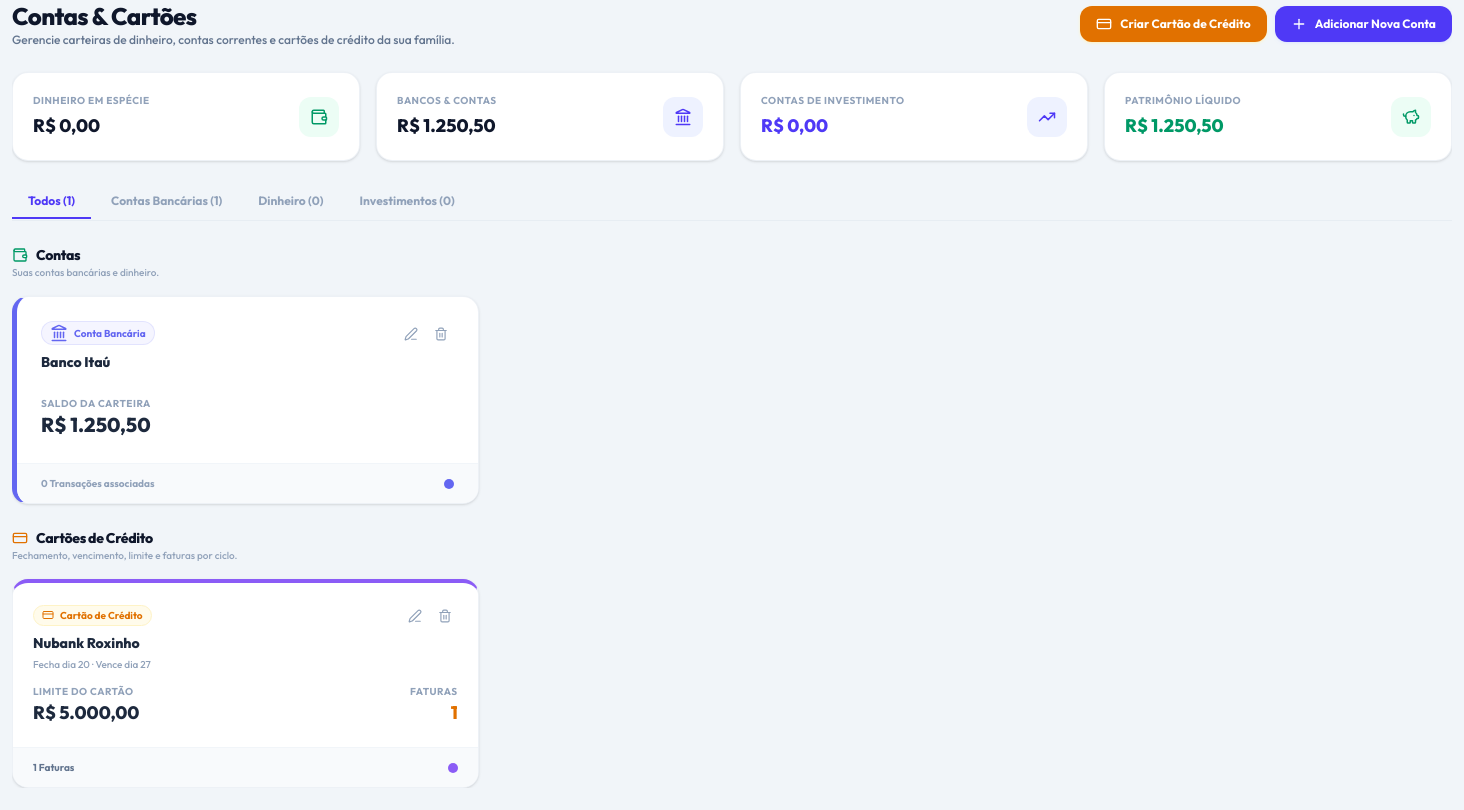
AccountsAndCardsManager › lista os cartões de crédito com faturas
This screenshot has width=1464, height=810.
Check: the heading "Nubank Roxinho" is shown, box [33,630,152,653]
Click the button "1 Faturas".
click(56, 768)  # box [33,760,458,775]
(page scrolled)
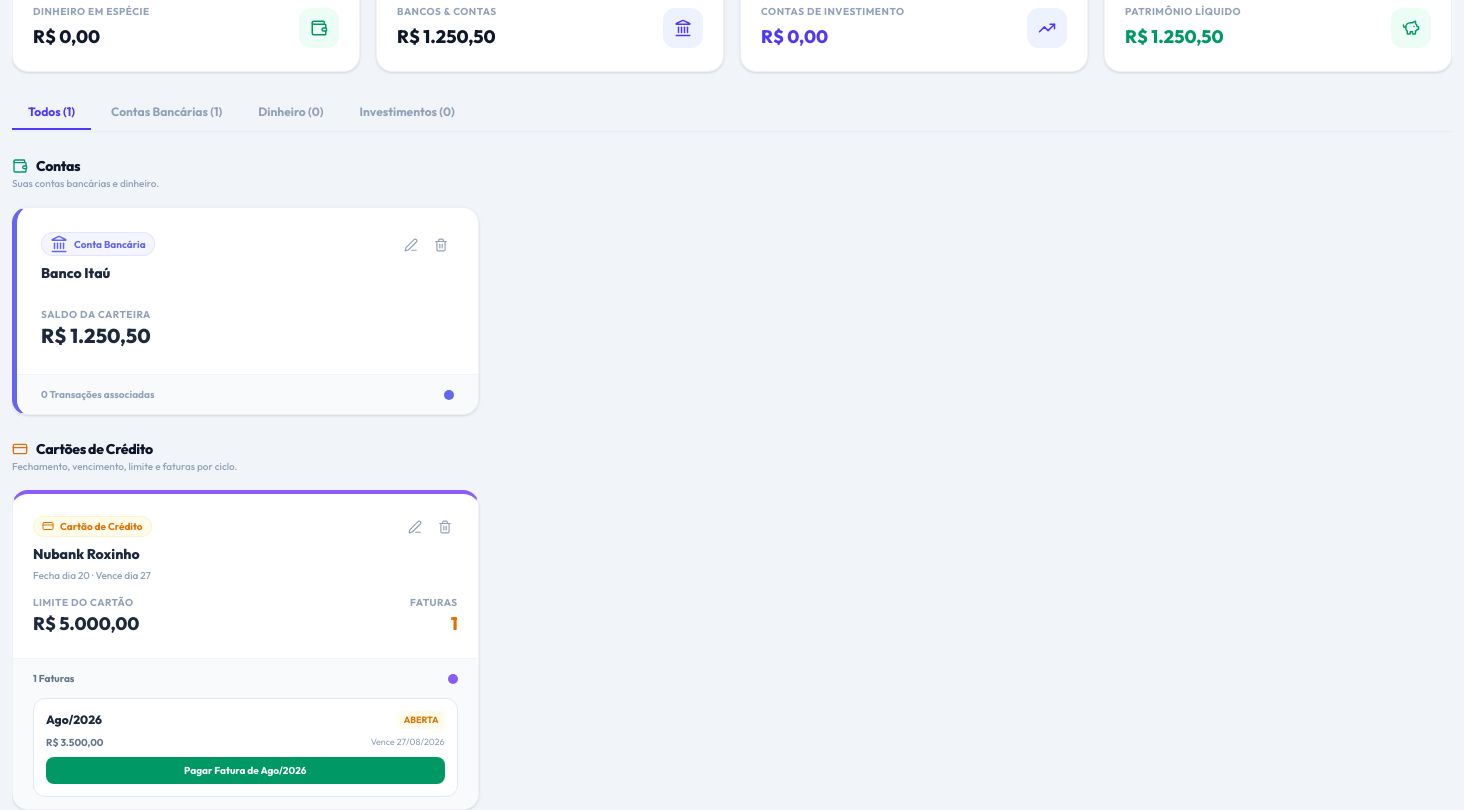
Check: the text "Ago/2026" is shown, box [46,712,102,728]
Check: the text "Aberta" is shown, box [398,711,445,728]
